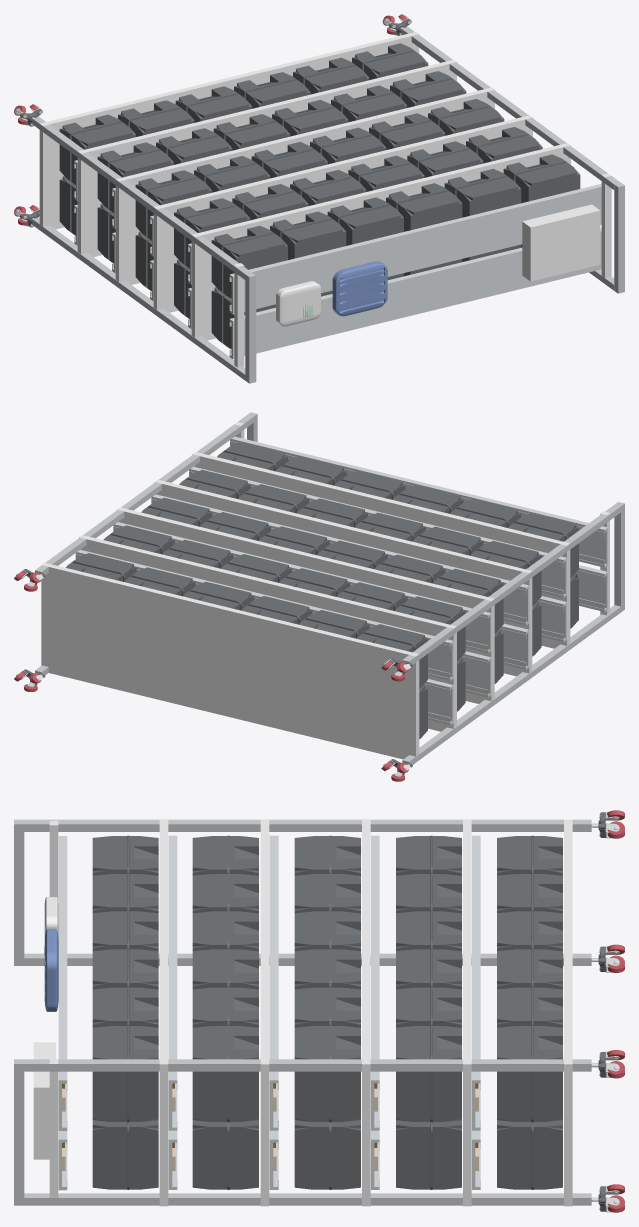
File: UHF-6-5-2.glb
3 views of the same model, one above another, from view 1: azimuth 30°, elevation 25°; view 2: azimuth 150°, elevation 25°; view 3: azimuth 270°, elevation 25° (orthographic). The views are drawn at different scales.
Visible parts, largest first — view 1: g group_20_12568524, g group_11_12568524, g group_31_10988977, g group_8_16448250, g group_9_16448250, g group_5_16448250, g group_7_16448250, g group_6_16448250, g group_0_16448250, g group_30_10988977, g group_194_2829873, g group_4_3888547 (+50 smaller); view 2: g group_5_16448250, g group_8_16448250, g group_7_16448250, g group_9_16448250, g group_6_16448250, g group_31_10988977, g group_20_12568524, g group_30_10988977, g group_77_12568524, g group_59_12568524, g group_41_12568524, g group_95_12568524 (+36 smaller); view 3: g group_30_10988977, g group_31_10988977, g group_193_2829873, g group_171_2829873, g group_215_2829873, g group_149_2829873, g group_127_2829873, g group_170_2829873, g group_192_2829873, g group_214_2829873, g group_126_2829873, g group_148_2829873 (+63 smaller).
Boxes of the visible parts, box(x1,y1,x2,y2) form: g group_20_12568524: box(229, 183, 601, 314); g group_11_12568524: box(229, 228, 601, 358); g group_31_10988977: box(32, 117, 256, 383); g group_8_16448250: box(153, 115, 532, 312); g group_9_16448250: box(191, 143, 570, 340); g group_5_16448250: box(39, 32, 419, 229); g group_7_16448250: box(115, 87, 494, 284); g group_6_16448250: box(77, 59, 456, 256); g group_0_16448250: box(522, 204, 600, 281); g group_30_10988977: box(401, 27, 624, 293); g group_194_2829873: box(211, 225, 287, 298); g group_4_3888547: box(332, 261, 387, 316); g group_5_16448250: box(41, 562, 419, 759); g group_8_16448250: box(154, 479, 532, 676); g group_7_16448250: box(117, 507, 494, 703); g group_9_16448250: box(192, 452, 570, 648); g group_6_16448250: box(79, 535, 456, 731); g group_31_10988977: box(402, 502, 624, 764); g group_20_12568524: box(230, 436, 607, 567); g group_30_10988977: box(35, 412, 257, 674); g group_77_12568524: box(151, 494, 529, 625); g group_59_12568524: box(113, 522, 491, 653); g group_41_12568524: box(75, 549, 453, 680); g group_95_12568524: box(189, 466, 566, 597); g group_30_10988977: box(14, 1059, 591, 1205); g group_31_10988977: box(14, 819, 591, 965); g group_193_2829873: box(192, 1025, 258, 1122); g group_171_2829873: box(294, 1025, 360, 1122); g group_215_2829873: box(92, 1025, 158, 1122); g group_149_2829873: box(396, 1025, 461, 1122); g group_127_2829873: box(497, 1025, 562, 1122); g group_170_2829873: box(294, 1120, 360, 1189); g group_192_2829873: box(192, 1120, 258, 1189); g group_214_2829873: box(92, 1120, 158, 1189); g group_126_2829873: box(497, 1120, 562, 1189); g group_148_2829873: box(396, 1120, 461, 1189).
Size of the model in its own units: 174 by 50 by 175.
